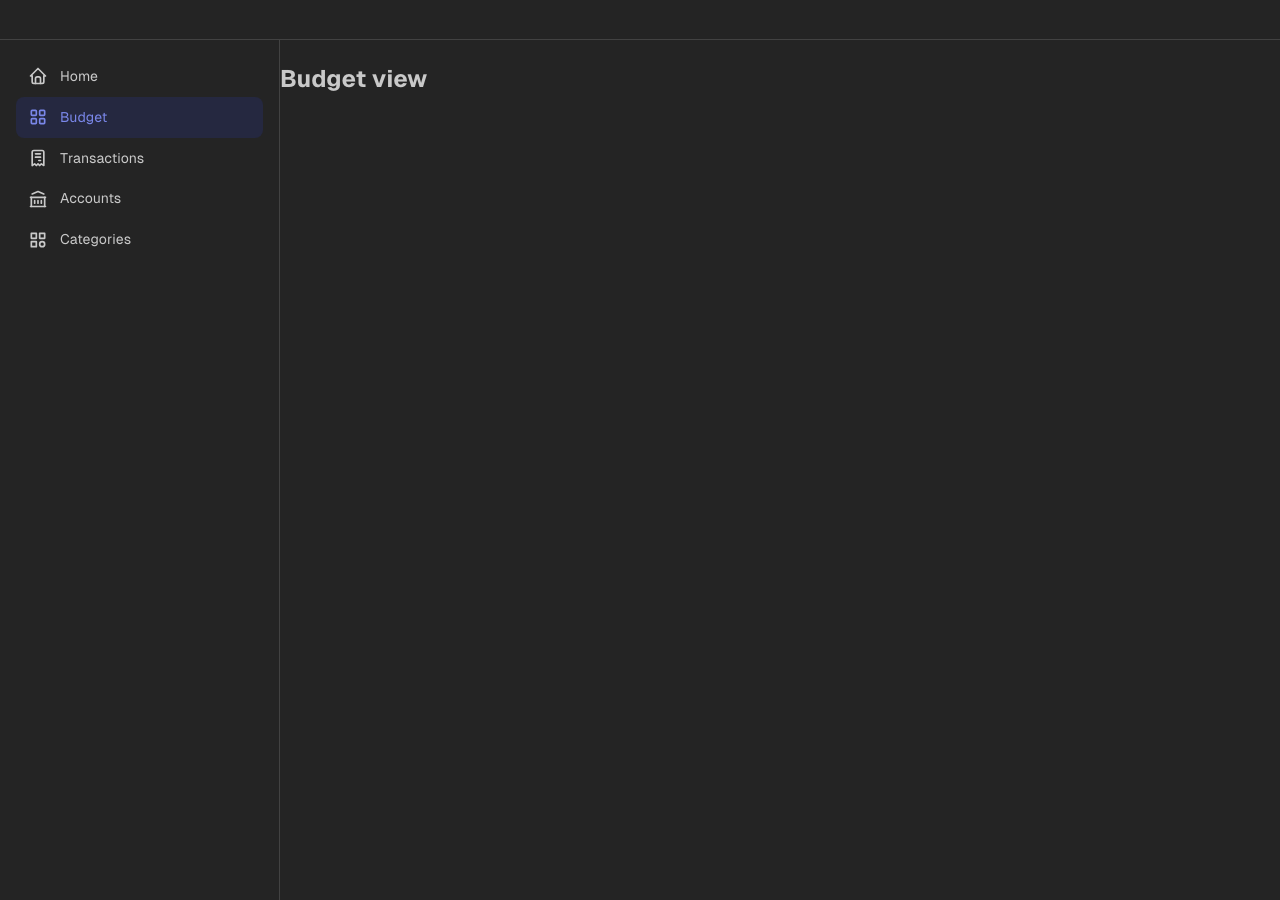
Test case: AppSidebar › navigates between routes and leaves the sidebar open on desktop
Check: the heading "Budget view" is shown, box x1=280 y1=65 x2=428 y2=92
Check: the text "Home" is shown, box x1=60 y1=68 x2=98 y2=84
Click the button "Transactions" at (86, 158), box x1=28 y1=148 x2=144 y2=168
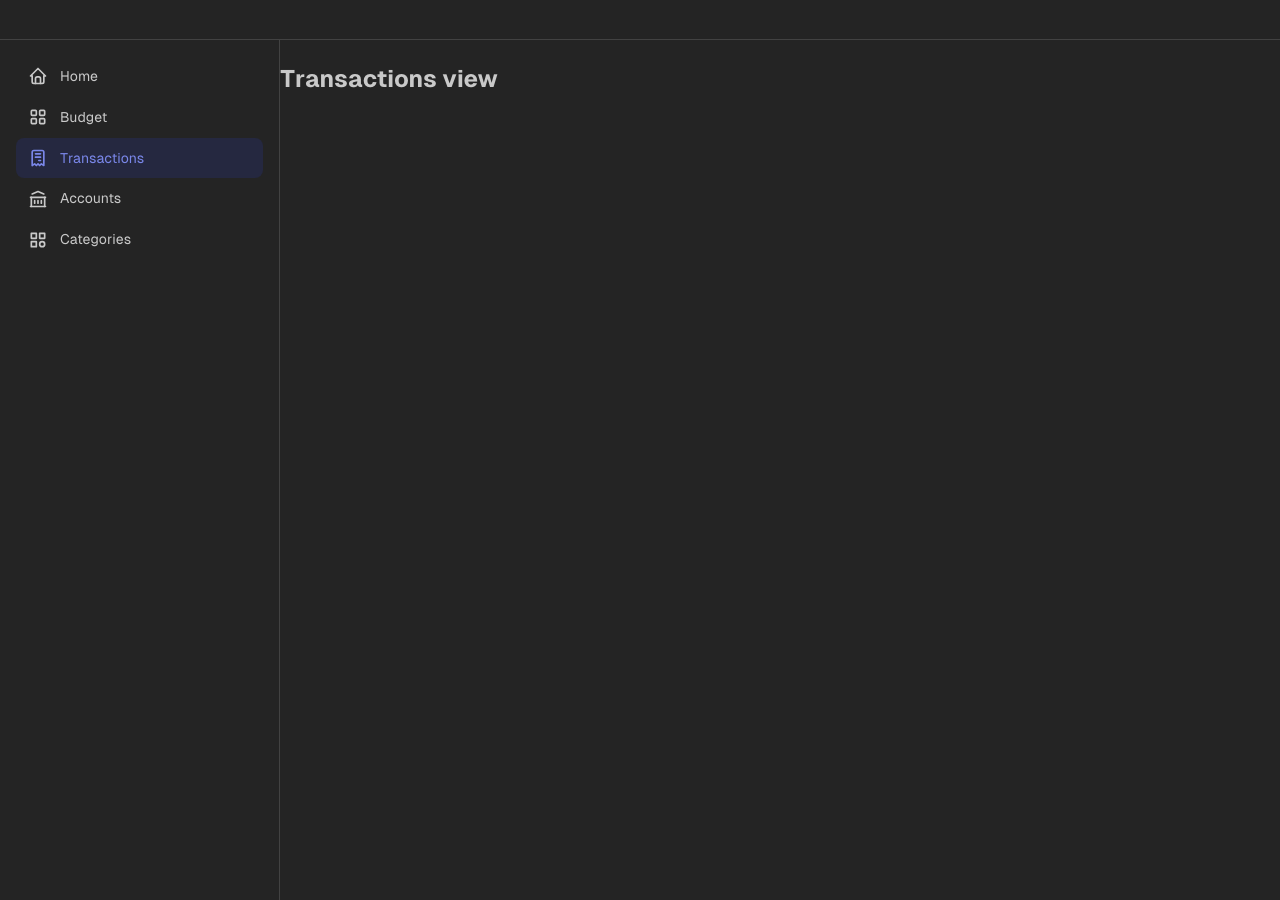
Check: the heading "Transactions view" is shown, box x1=280 y1=65 x2=498 y2=92
